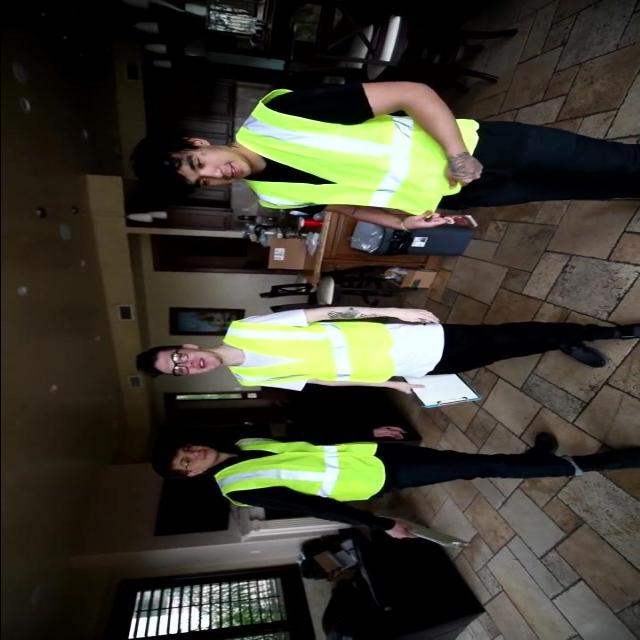jacket: (232, 73, 489, 231), (205, 310, 397, 394), (210, 425, 384, 513)
